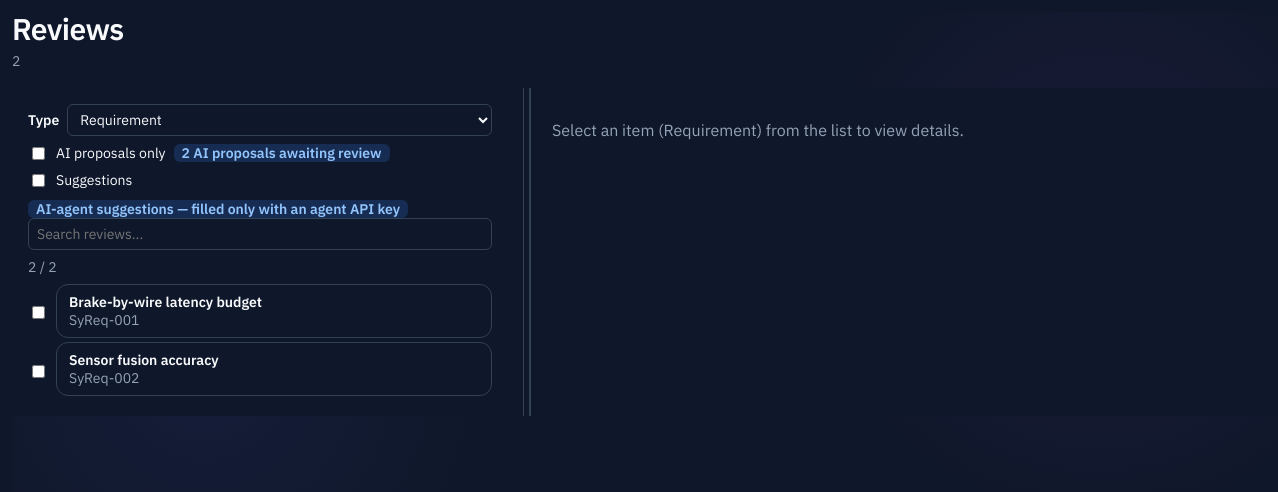
Scenario: ReviewsView (REQ-144 smoke tests) › [REQ-144] Approve is disabled when the caller lacks the approver role (transition absent)
Expected: the text "Brake-by-wire latency budget" is shown, [69,292,262,310]
Step 1. Click the button with test id "review-list-item-req-001" → (166,302), box [56,284,492,338]
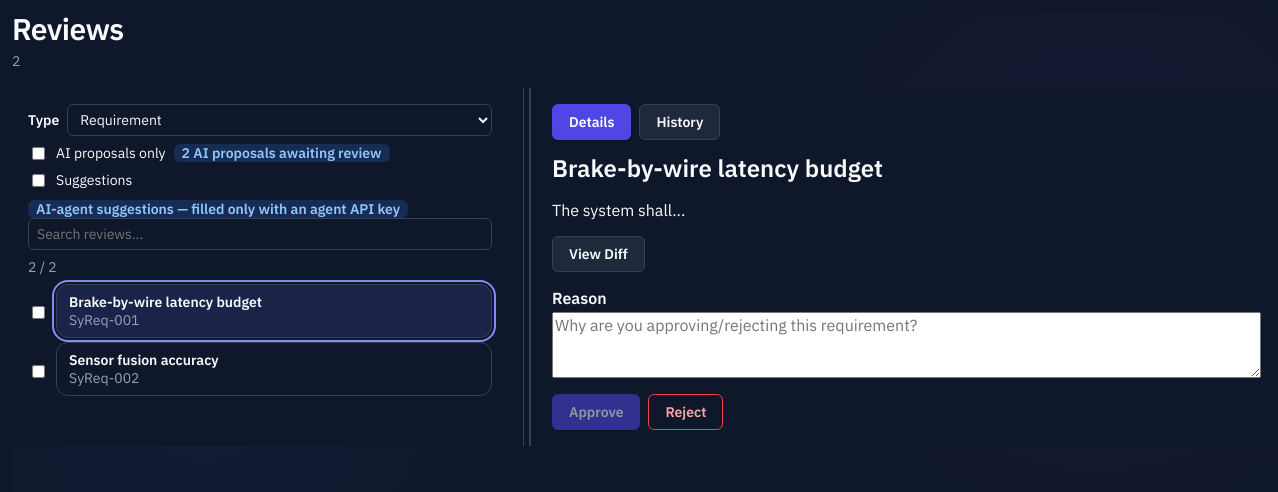
Expected: the button with test id "review-reject-btn" is enabled, [648,394,724,430]
Expected: the button with test id "review-approve-btn" is disabled, [552,394,640,430]
